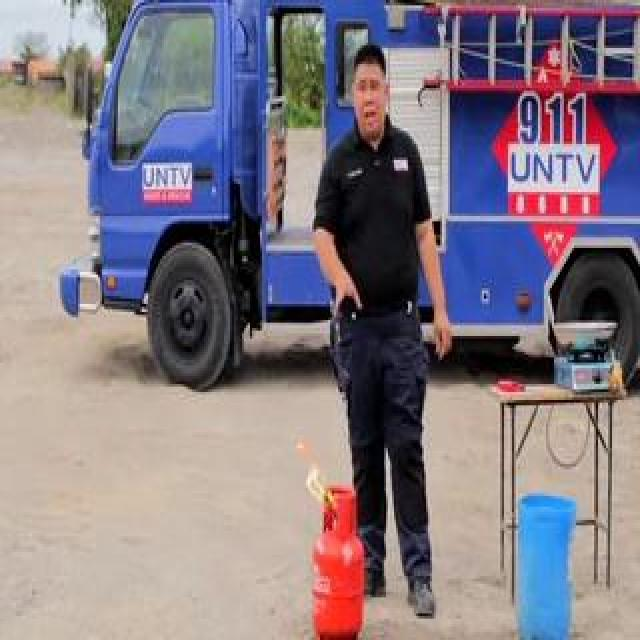Smoke: (290, 466, 344, 530)
